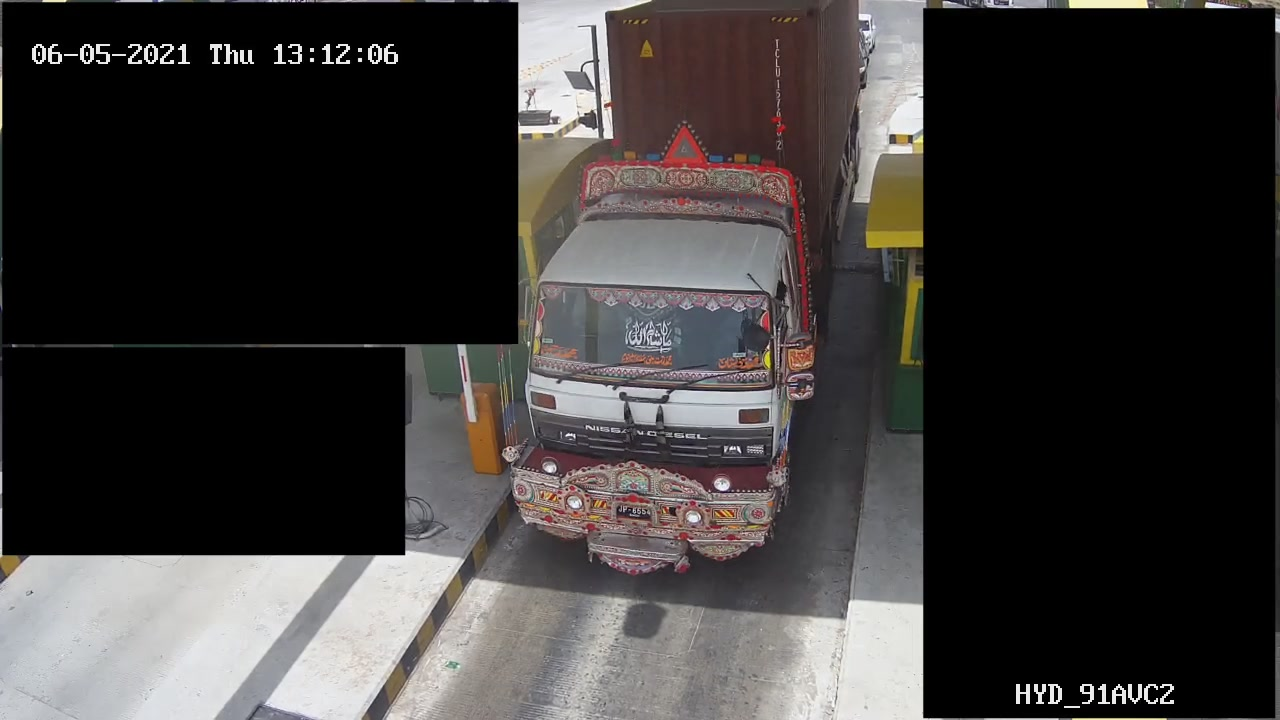F6: (495, 1, 882, 581)
